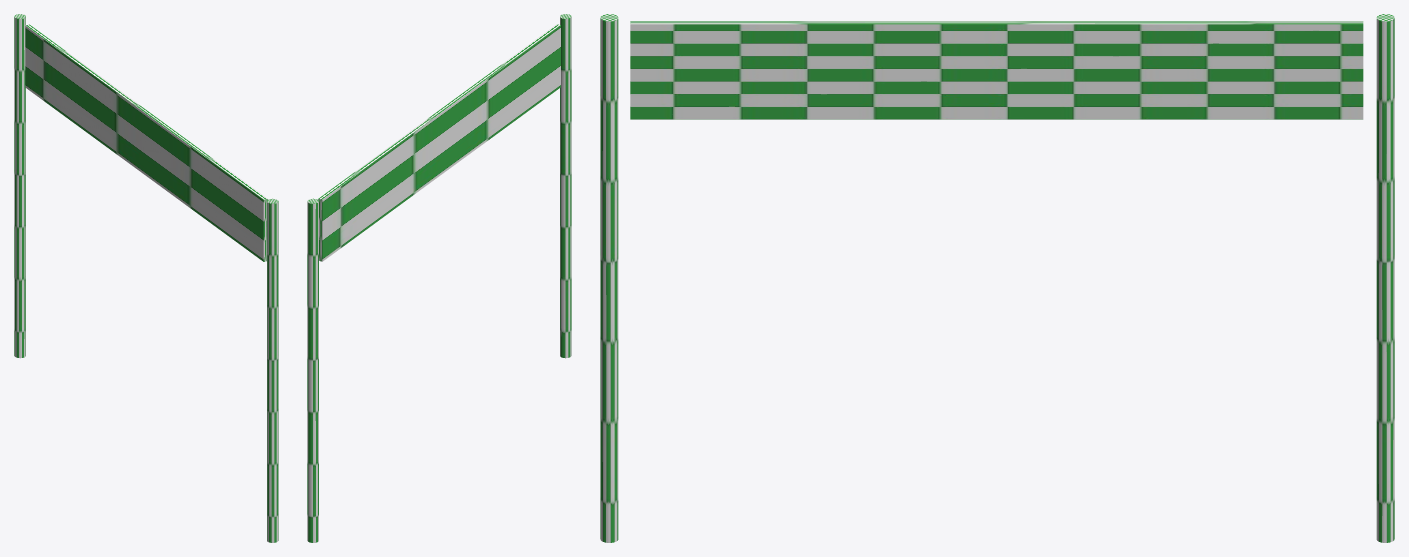
File: start.gltf
3 renders of one model, left to right at view 1: azimuth 30°, elevation 25°; view 2: azimuth 150°, elevation 25°; view 3: azimuth 270°, elevation 25°, orthographic. The views are drawn at different scales.
Visible parts, largest first — view 1: Cube; view 2: Cube; view 3: Cube.
Part boxes in pixels (box(x1,y1,x2,y2)): Cube: box(14, 14, 278, 542); Cube: box(307, 14, 571, 542); Cube: box(600, 14, 1394, 542).
Bounding box in the file's own units: 0.342 × 10.93 × 15.09.
1 material, 1 textured.
